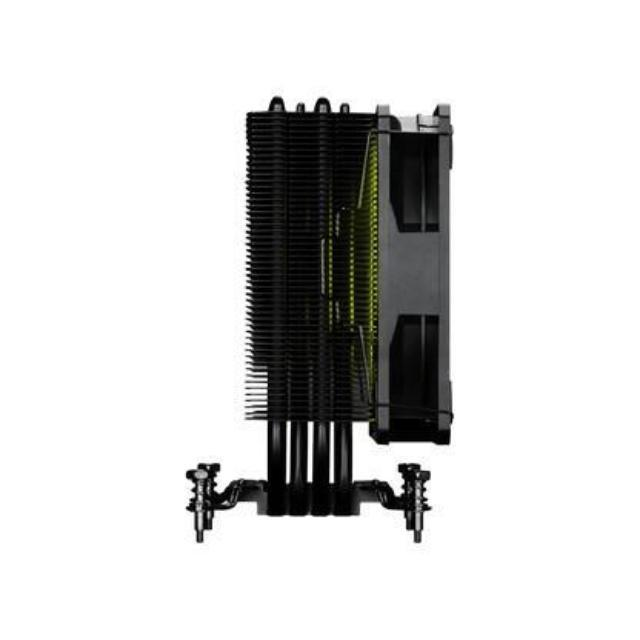CPU_Fan: (179, 96, 461, 544)
